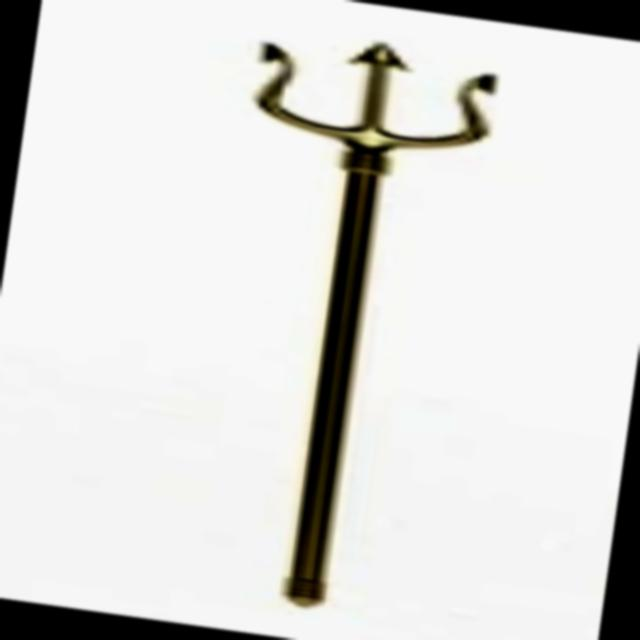spear: (129, 4, 562, 640)
